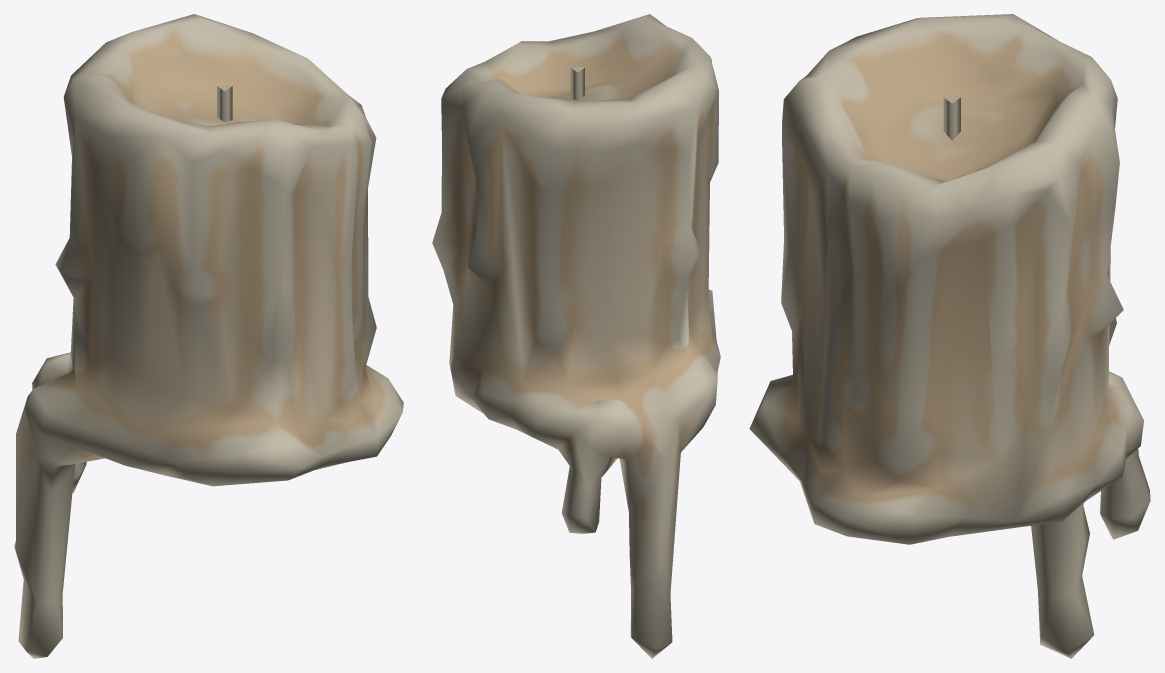
File: SM_CandleFat_02.FBX
The picture shows the model from 3 angles, left to right: view 1: azimuth 30°, elevation 25°; view 2: azimuth 150°, elevation 25°; view 3: azimuth 270°, elevation 25°; orthographic projection. The views are drawn at different scales.
Parts seen in each view (by area): view 1: SM_CandleFat_02_LOD0; view 2: SM_CandleFat_02_LOD0; view 3: SM_CandleFat_02_LOD0.
Part boxes in pixels (<box>): SM_CandleFat_02_LOD0: <box>14,14,403,658</box>; SM_CandleFat_02_LOD0: <box>432,14,720,658</box>; SM_CandleFat_02_LOD0: <box>749,14,1150,658</box>.
Size of what is drawn, in the model's own units: 19.62 by 19.83 by 35.74.
